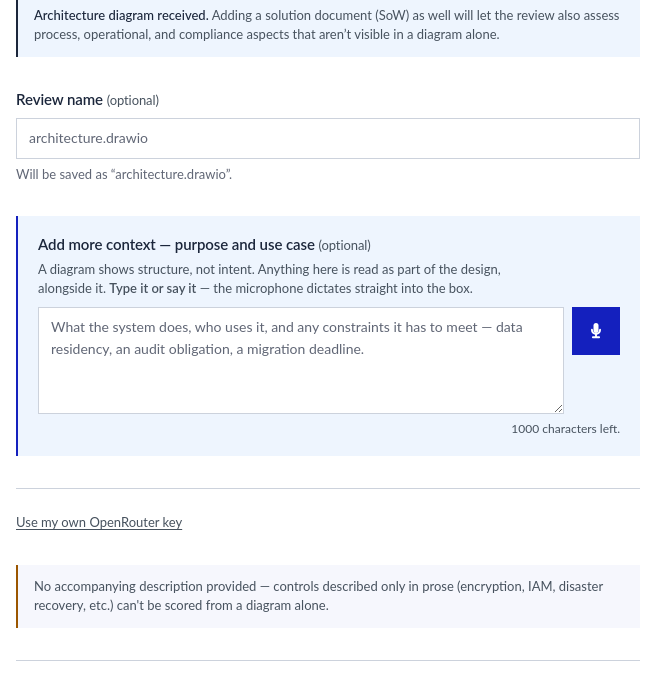
context field › appends dictated text rather than replacing what was typed
Earlier steps of the test are not shown.
(page scrolled)
Type "Claims portal." into the text box labelled "Add more context — purpose and use case (optional)" at (301, 360), box [38,306,564,414]
(page scrolled)
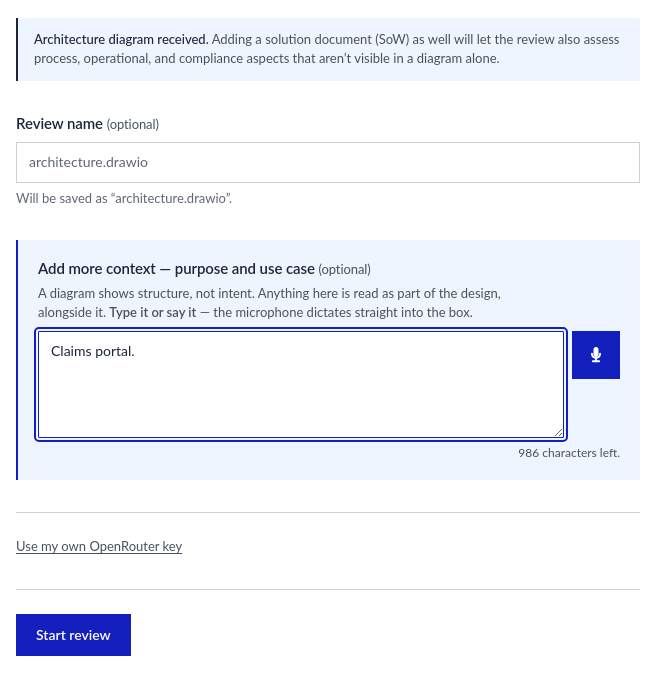
Click the button named "speak out your purpose and use case" at (596, 354), box [572,330,620,378]
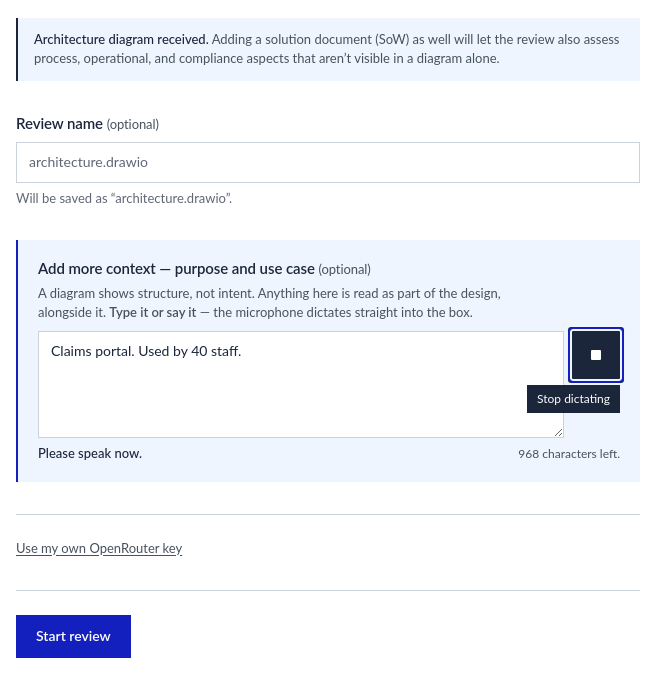
expect the text box labelled "Add more context — purpose and use case (optional)" holds "Claims portal. Used by 40 staff.": met, box [38,330,564,438]
